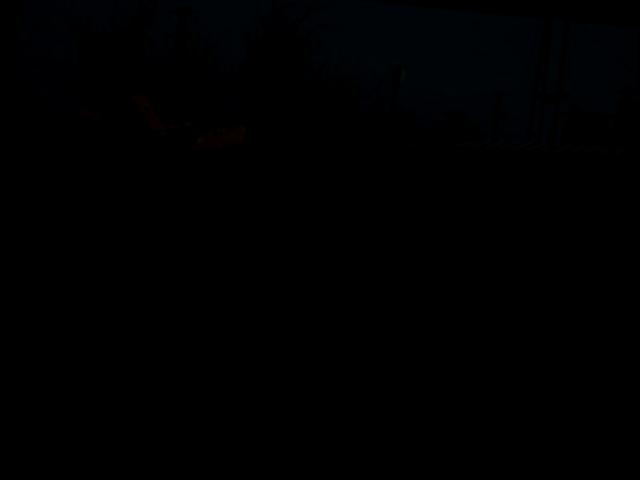iha: (61, 76, 315, 168)
